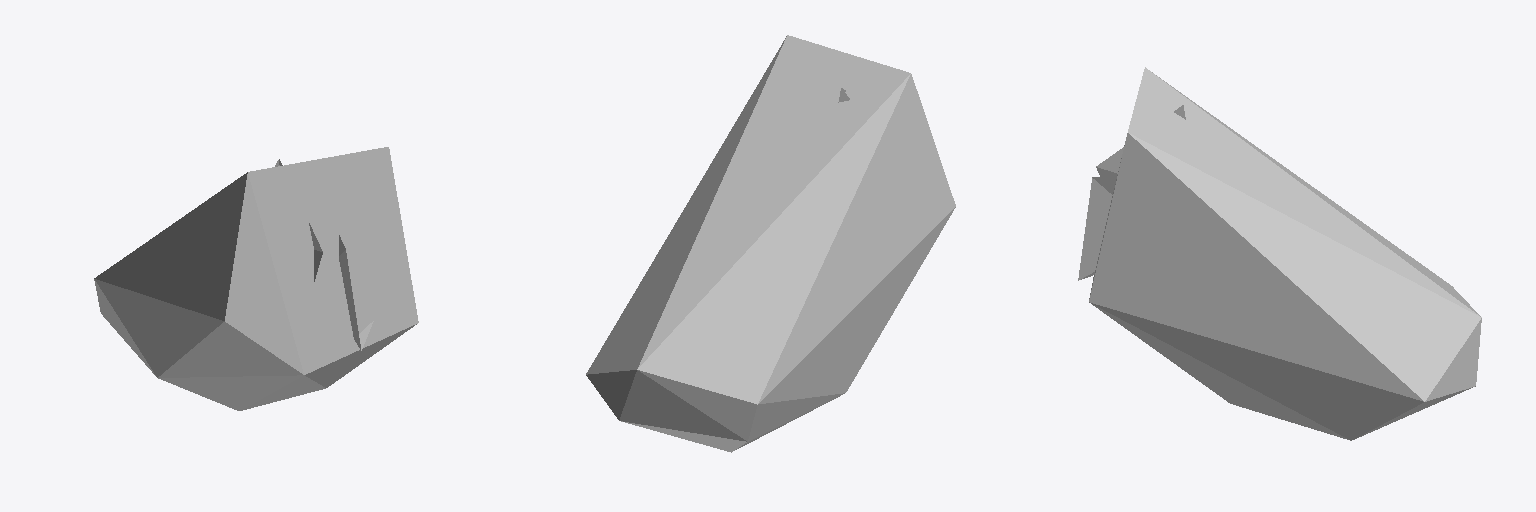
File: hand_falangina.obj
3 views of the same model, side by side, from view 1: azimuth 30°, elevation 25°; view 2: azimuth 150°, elevation 25°; view 3: azimuth 270°, elevation 25° (orthographic).
Visible parts, largest first — view 1: hand_dummy.001; view 2: hand_dummy.001; view 3: hand_dummy.001.
Boxes of the visible parts, <box> form: hand_dummy.001: <box>94,147,418,410</box>; hand_dummy.001: <box>586,35,955,452</box>; hand_dummy.001: <box>1078,67,1481,440</box>.
Bounding box in the file's own units: 0.4577 × 0.6055 × 0.7292.